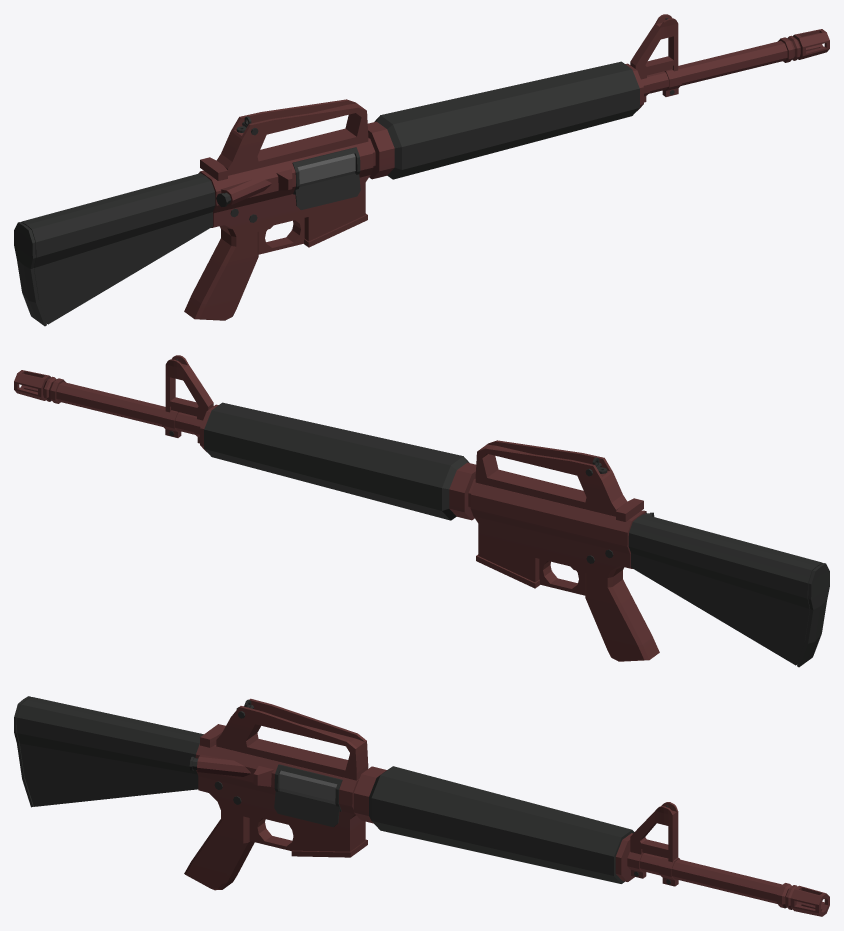
The model's file is SM_AssaultRifle4_05.glb.
3 views of the same model, one above another, from view 1: azimuth 30°, elevation 25°; view 2: azimuth 150°, elevation 25°; view 3: azimuth 330°, elevation 25° (orthographic).
Parts seen in each view (by area): view 1: SM_AssaultRifle4_05; view 2: SM_AssaultRifle4_05; view 3: SM_AssaultRifle4_05.
Part boxes in pixels (box(x1,y1,x2,y2)): SM_AssaultRifle4_05: box(14, 14, 829, 326); SM_AssaultRifle4_05: box(14, 355, 829, 667); SM_AssaultRifle4_05: box(14, 696, 829, 916).
Bounding box in the file's own units: 1.04 × 0.2381 × 0.0756.
1 material, 1 textured.
